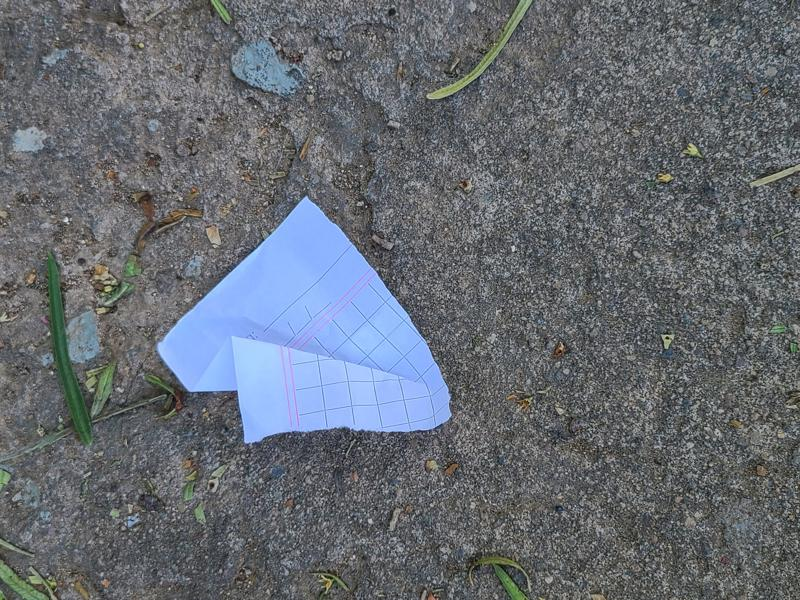papel: (154, 197, 453, 446)
